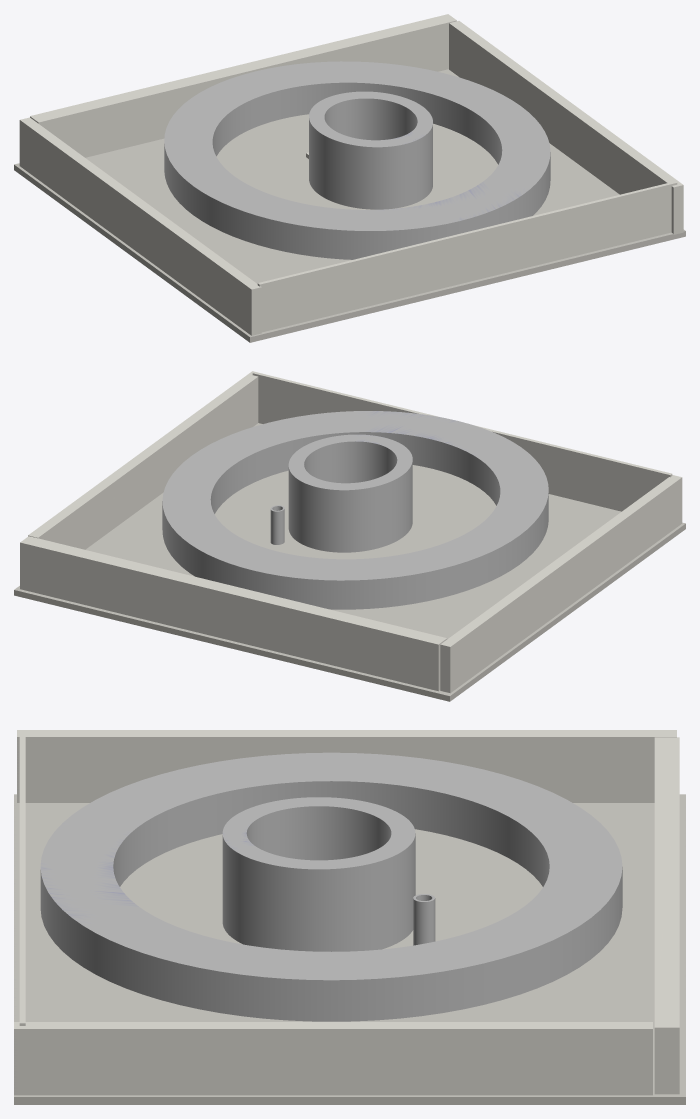
The model's file is myWorld.glb.
3 renders of one model, top to bottom at view 1: azimuth 30°, elevation 25°; view 2: azimuth 150°, elevation 25°; view 3: azimuth 270°, elevation 25°, orthographic. The views are drawn at different scales.
Visible parts, largest first — view 1: mesh_id121, mesh_id31, mesh_id103, mesh_id109, mesh_id97, mesh_id115, mesh_id91; view 2: mesh_id121, mesh_id31, mesh_id97, mesh_id109, mesh_id115, mesh_id91, mesh_id103, mesh_id39; view 3: mesh_id121, mesh_id31, mesh_id91, mesh_id109, mesh_id115, mesh_id97, mesh_id103, mesh_id39.
Part boxes in pixels (bbox=[...]): mesh_id121: bbox=[164, 61, 550, 259]; mesh_id31: bbox=[14, 69, 685, 342]; mesh_id103: bbox=[257, 181, 677, 332]; mesh_id109: bbox=[19, 117, 261, 335]; mesh_id97: bbox=[30, 14, 456, 157]; mesh_id115: bbox=[309, 91, 432, 209]; mesh_id91: bbox=[449, 21, 683, 234]; mesh_id121: bbox=[162, 411, 548, 609]; mesh_id31: bbox=[14, 423, 685, 701]; mesh_id97: bbox=[20, 536, 447, 691]; mesh_id109: bbox=[440, 475, 682, 693]; mesh_id115: bbox=[288, 434, 412, 552]; mesh_id91: bbox=[28, 371, 258, 549]; mesh_id103: bbox=[252, 372, 672, 511]; mesh_id39: bbox=[270, 505, 284, 544]; mesh_id121: bbox=[40, 752, 622, 1021]; mesh_id31: bbox=[14, 794, 685, 1104]; mesh_id91: bbox=[14, 1022, 652, 1095]; mesh_id109: bbox=[17, 730, 676, 802]; mesh_id115: bbox=[222, 797, 415, 951]; mesh_id97: bbox=[654, 737, 679, 1094]; mesh_id103: bbox=[19, 733, 25, 1025]; mesh_id39: bbox=[413, 894, 435, 945].
Size of the model in its own units: 12.41 by 2.43 by 11.64.
7 materials, 7 textured.
